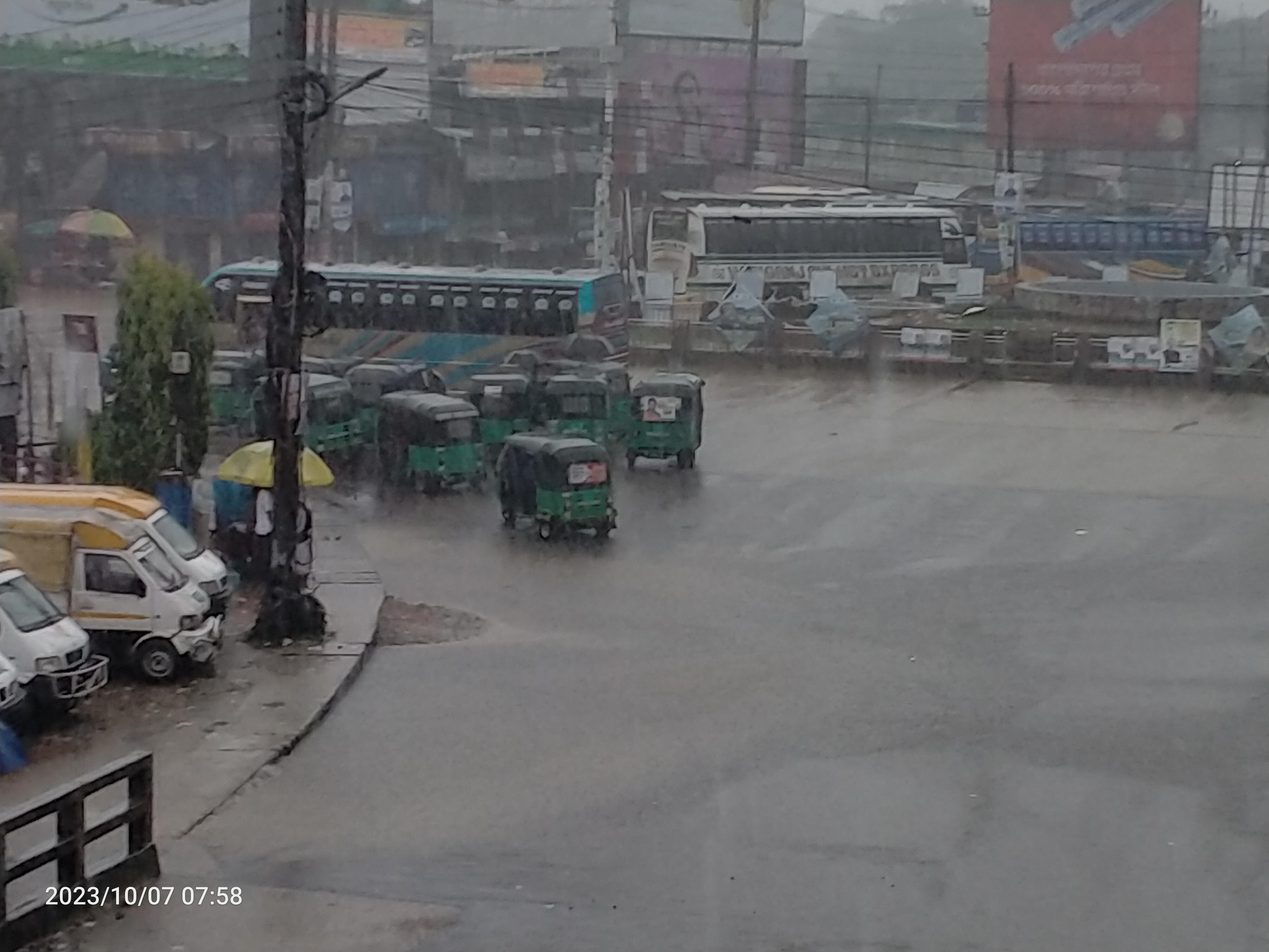Bus: (166, 235, 653, 411), (665, 178, 985, 338), (999, 199, 1245, 341)
Car: (0, 526, 233, 693), (0, 541, 116, 710)
